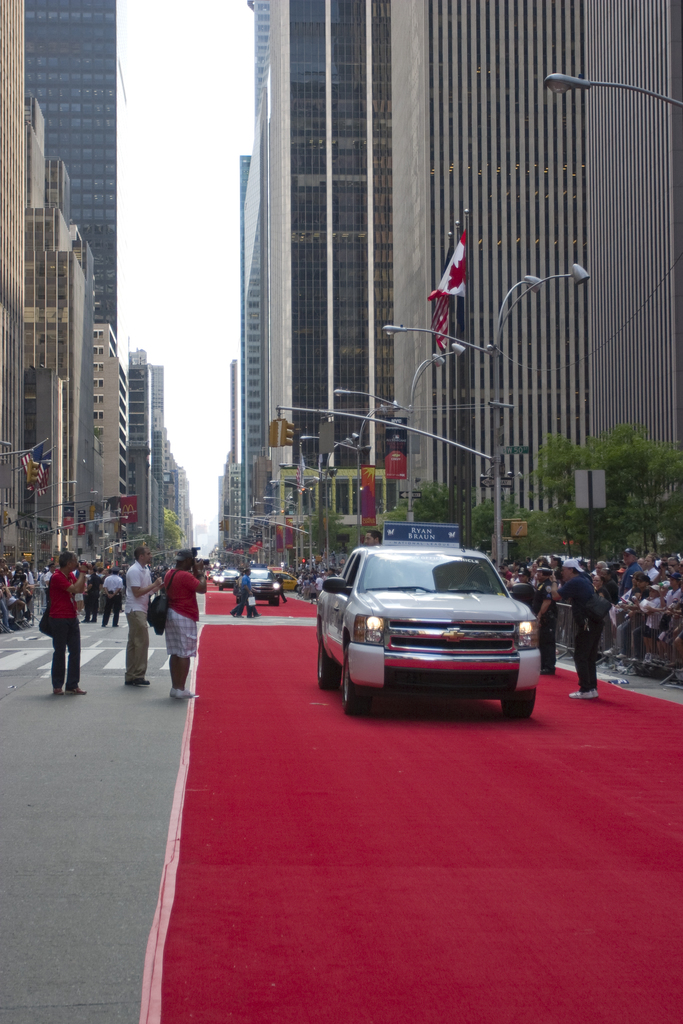Car: (314, 547, 538, 719), (249, 567, 288, 600), (221, 567, 246, 588)
